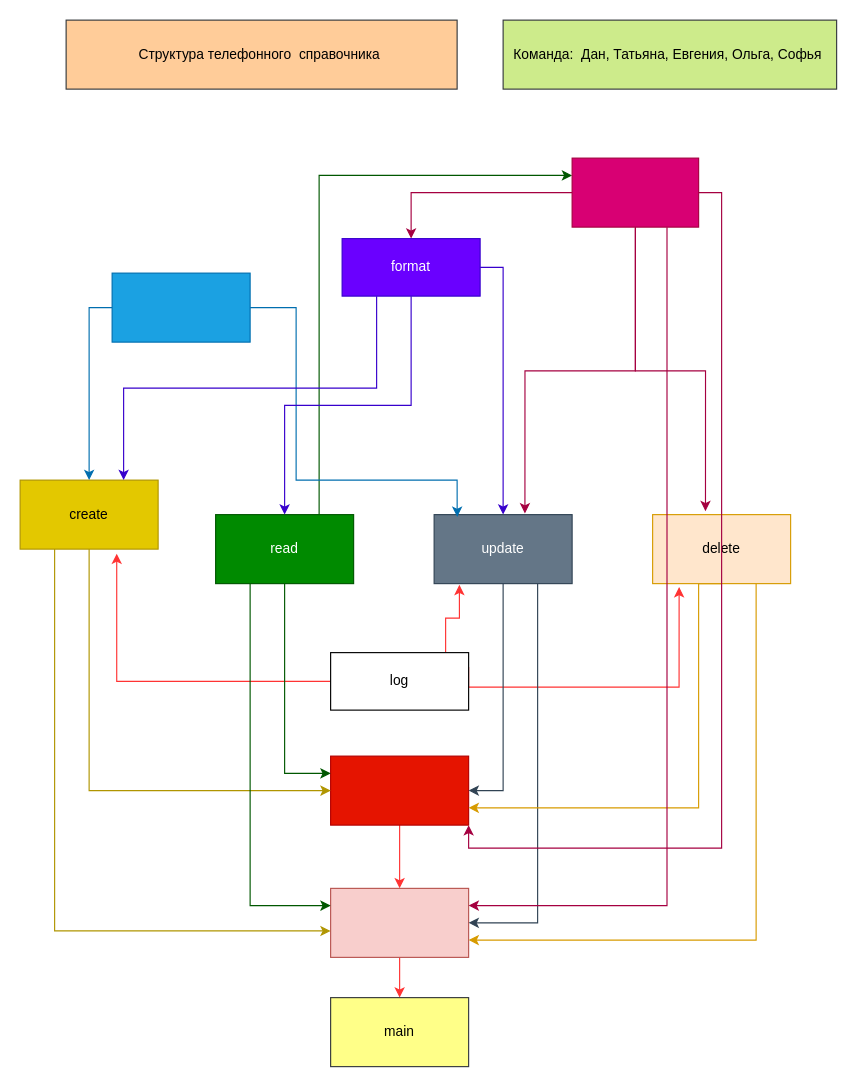
Some shapes in this 857 by 1087 pixel diagram are drawn without their labels. Here are the shapes that lost their labels. From the top down, the box of each, then its label:
(571, 157, 699, 227): find
(111, 272, 250, 342): check
(329, 755, 469, 825): interface
(329, 887, 469, 957): controller
